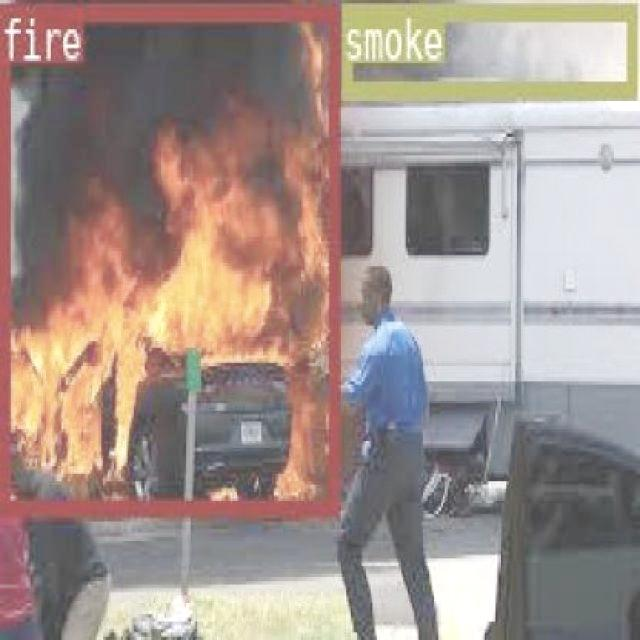fire: (0, 1, 337, 512)
smoke: (342, 0, 636, 94)
